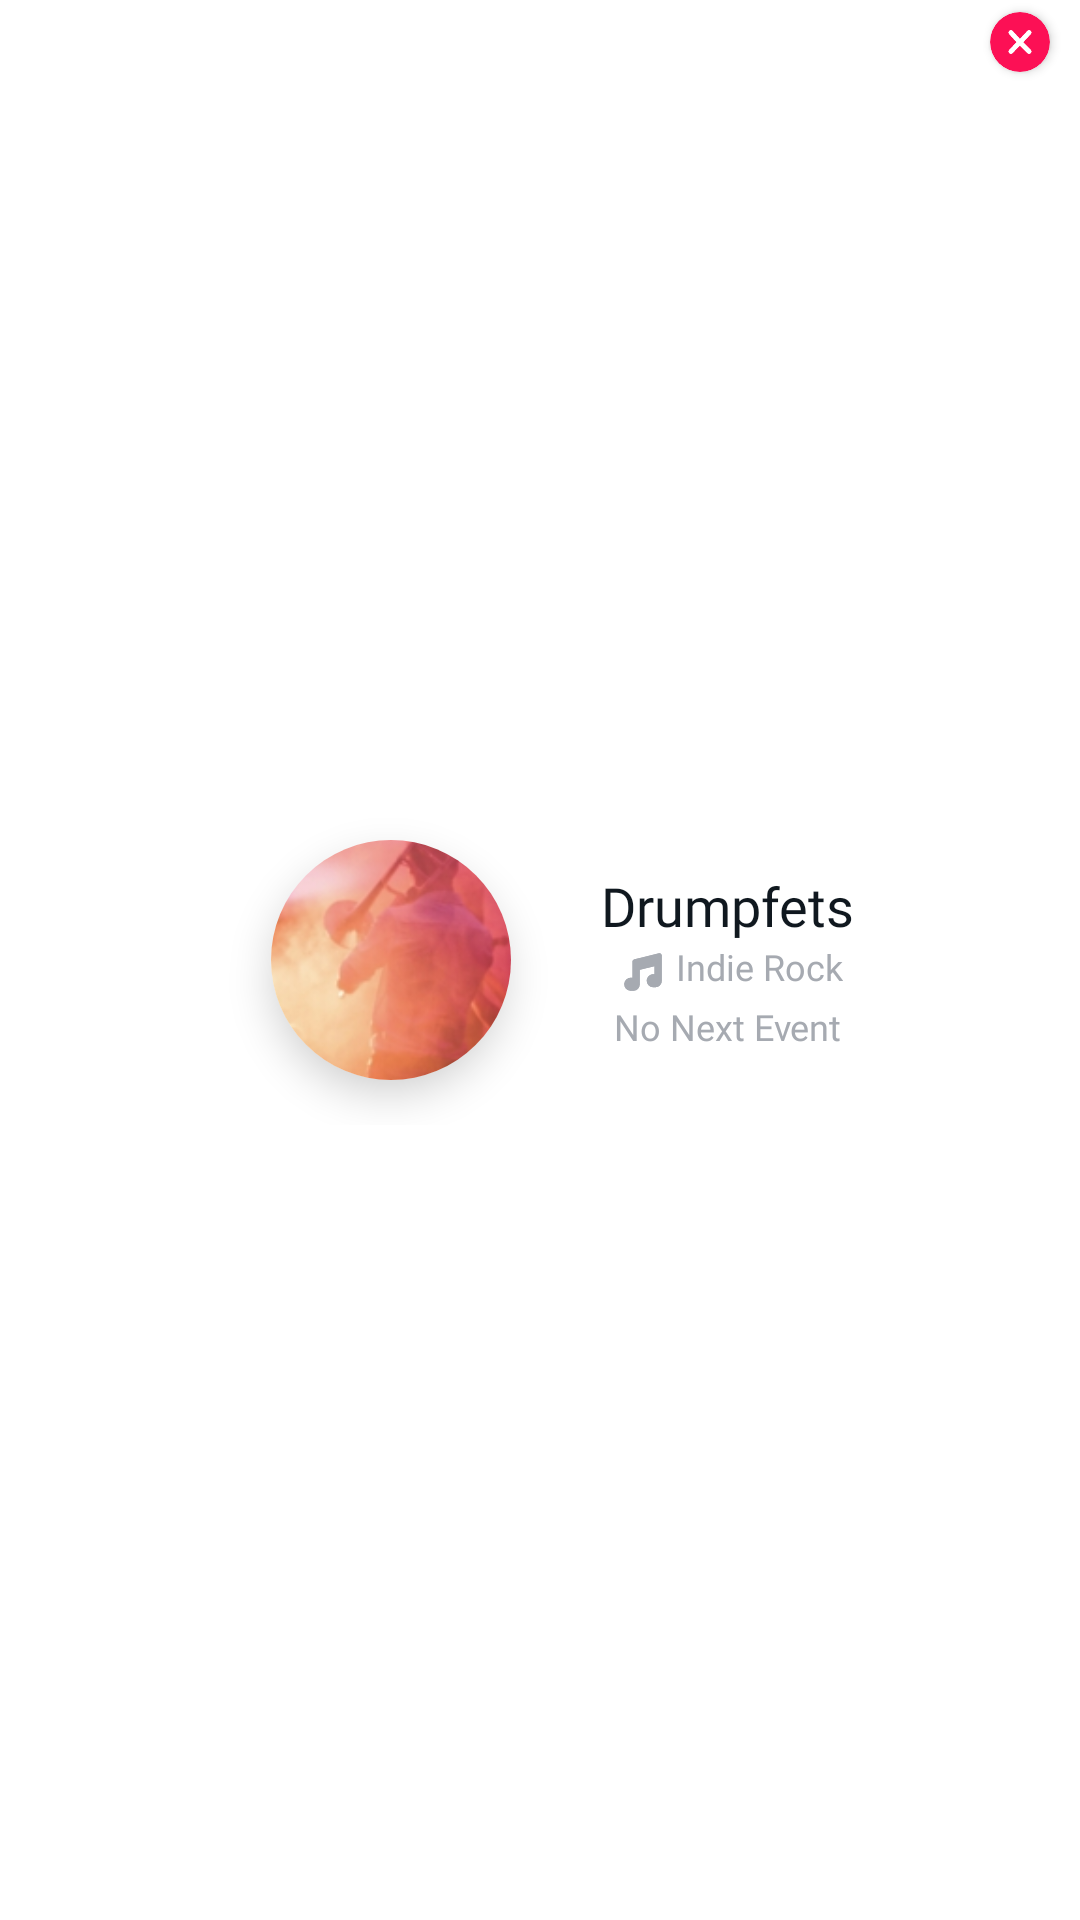

Icons on this 1080px×1920px Android screen, each with its box as [x1, y1, x2, y2]:
misc cancel: [990, 12, 1050, 72]
tags music: [624, 953, 662, 991]
